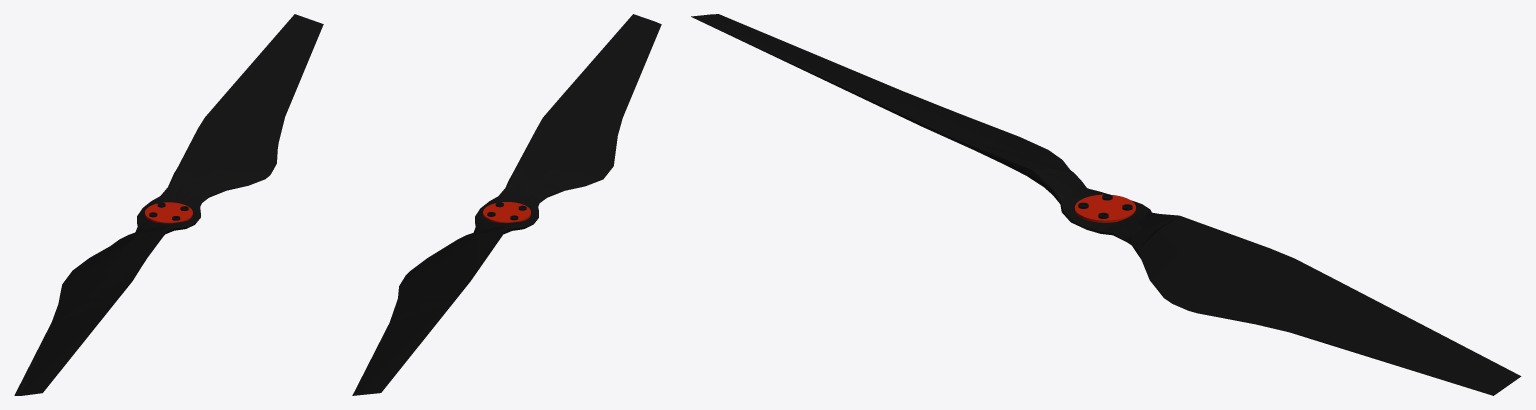
The model's file is tarotPaFD.obj.
3 views of the same model, side by side, from view 1: azimuth 30°, elevation 25°; view 2: azimuth 210°, elevation 25°; view 3: azimuth 270°, elevation 25° (orthographic). The views are drawn at different scales.
Visible parts, largest first — view 1: Object.1, Object.2; view 2: Object.1, Object.2; view 3: Object.1, Object.2.
Part boxes in pixels (box(x1,y1,x2,y2)): Object.1: box(14, 14, 323, 395); Object.2: box(145, 202, 192, 223); Object.1: box(352, 14, 661, 395); Object.2: box(483, 202, 530, 223); Object.1: box(691, 14, 1521, 395); Object.2: box(1074, 194, 1135, 222).
Bounding box in the file's own units: 294 × 12.54 × 270.
